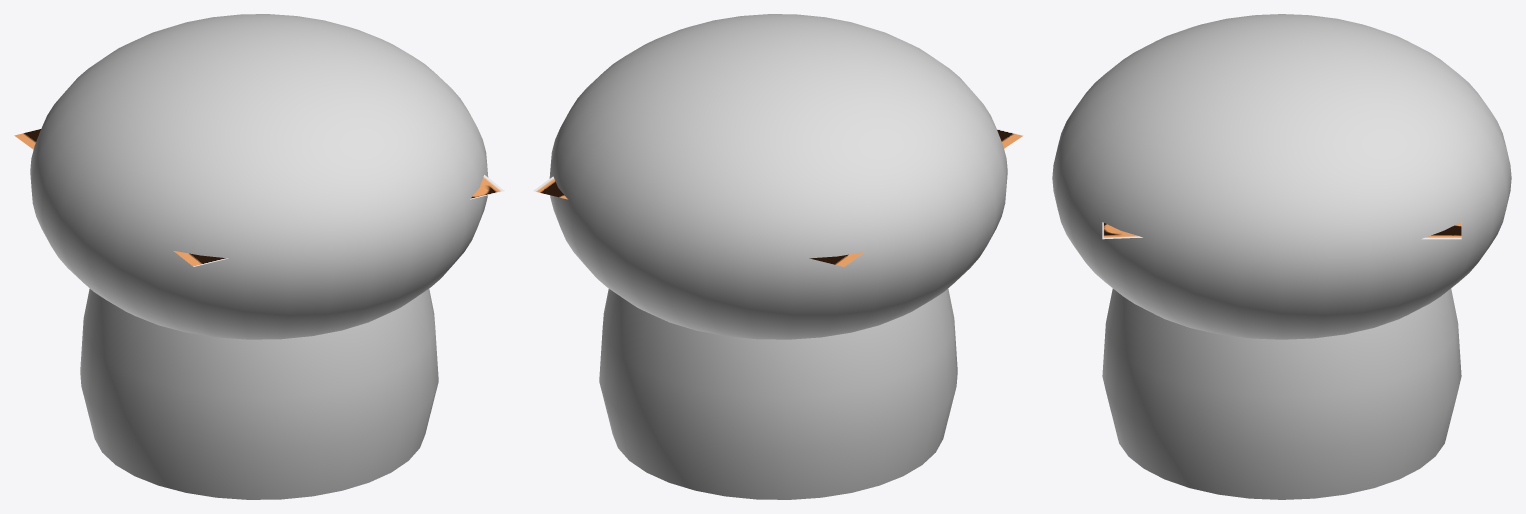
File: NukeMissile.fbx
The picture shows the model from 3 angles, left to right: view 1: azimuth 30°, elevation 25°; view 2: azimuth 150°, elevation 25°; view 3: azimuth 270°, elevation 25°; orthographic projection.
Visible parts, largest first — view 1: MushroomCloud, Nuke, CrackHole; view 2: MushroomCloud, Nuke, CrackHole; view 3: MushroomCloud, Nuke, CrackHole.
Part boxes in pixels (left/top/right/bottom): MushroomCloud: left=30, top=14, right=488, bottom=339; Nuke: left=80, top=288, right=438, bottom=499; CrackHole: left=14, top=129, right=504, bottom=266; MushroomCloud: left=549, top=14, right=1007, bottom=339; Nuke: left=599, top=288, right=957, bottom=499; CrackHole: left=533, top=129, right=1023, bottom=266; MushroomCloud: left=1052, top=14, right=1511, bottom=339; Nuke: left=1102, top=288, right=1461, bottom=499; CrackHole: left=1102, top=222, right=1461, bottom=239.
Bounding box in the file's own units: 256 × 236 × 256.
